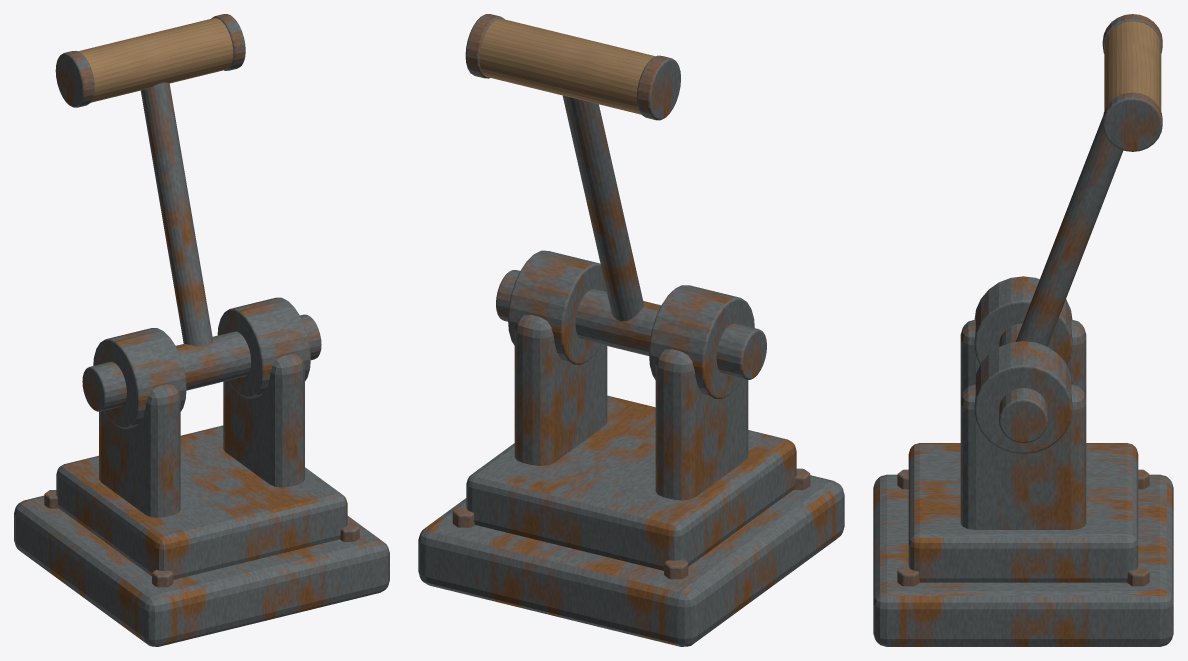
Rendered from SM_SharedLever.fbx.
3 views of the same model, side by side, from view 1: azimuth 30°, elevation 25°; view 2: azimuth 150°, elevation 25°; view 3: azimuth 270°, elevation 25° (orthographic). The views are drawn at different scales.
Visible parts, largest first — view 1: SM_SharedLever; view 2: SM_SharedLever; view 3: SM_SharedLever.
Boxes of the visible parts, box(x1,y1,x2,y2) form: SM_SharedLever: box(14, 14, 389, 646); SM_SharedLever: box(418, 14, 844, 646); SM_SharedLever: box(873, 14, 1173, 646).
Size of the model in its own units: 55 by 55 by 107.
